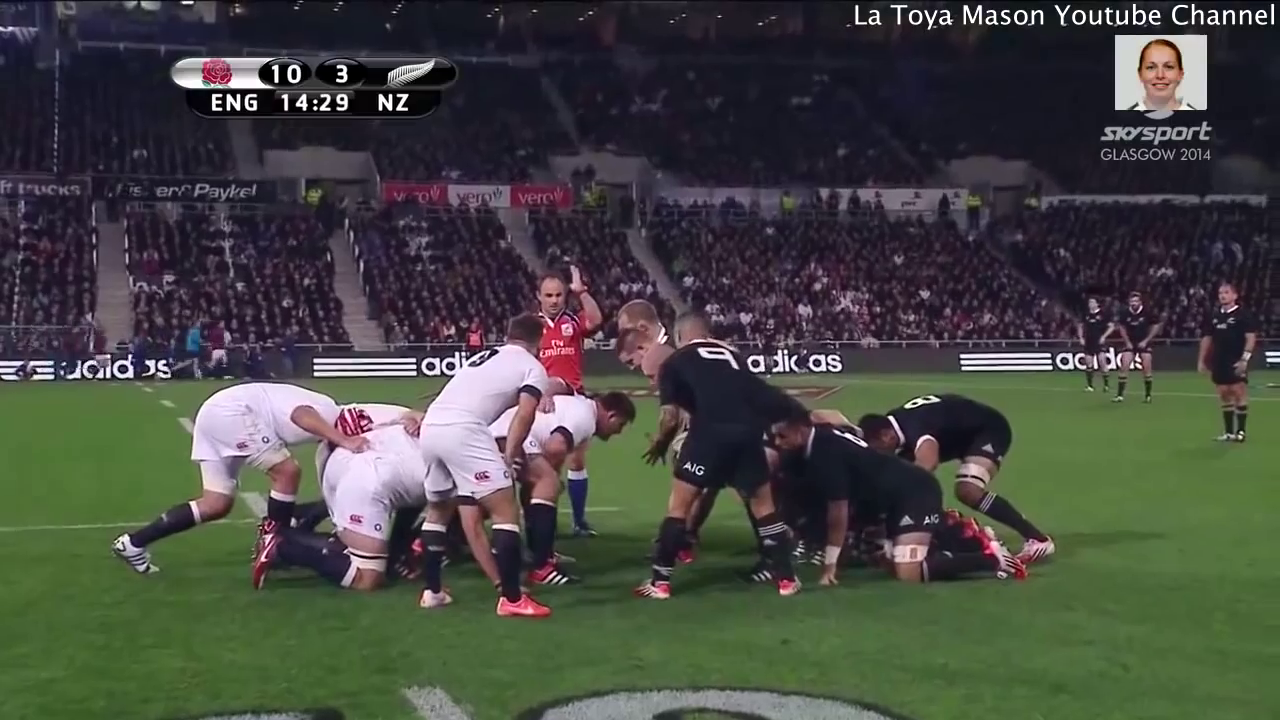player: (629, 304, 815, 617), (769, 400, 1045, 589), (403, 302, 560, 631), (102, 376, 355, 578), (848, 372, 1074, 568), (238, 408, 449, 604), (474, 385, 638, 627), (504, 250, 624, 542), (1189, 276, 1274, 461), (1099, 286, 1167, 415), (1067, 294, 1123, 396)
